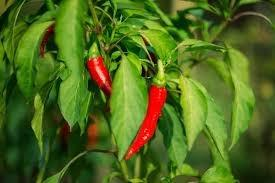Buah Cabai Sehat: (124, 74, 171, 163), (85, 50, 115, 96)
